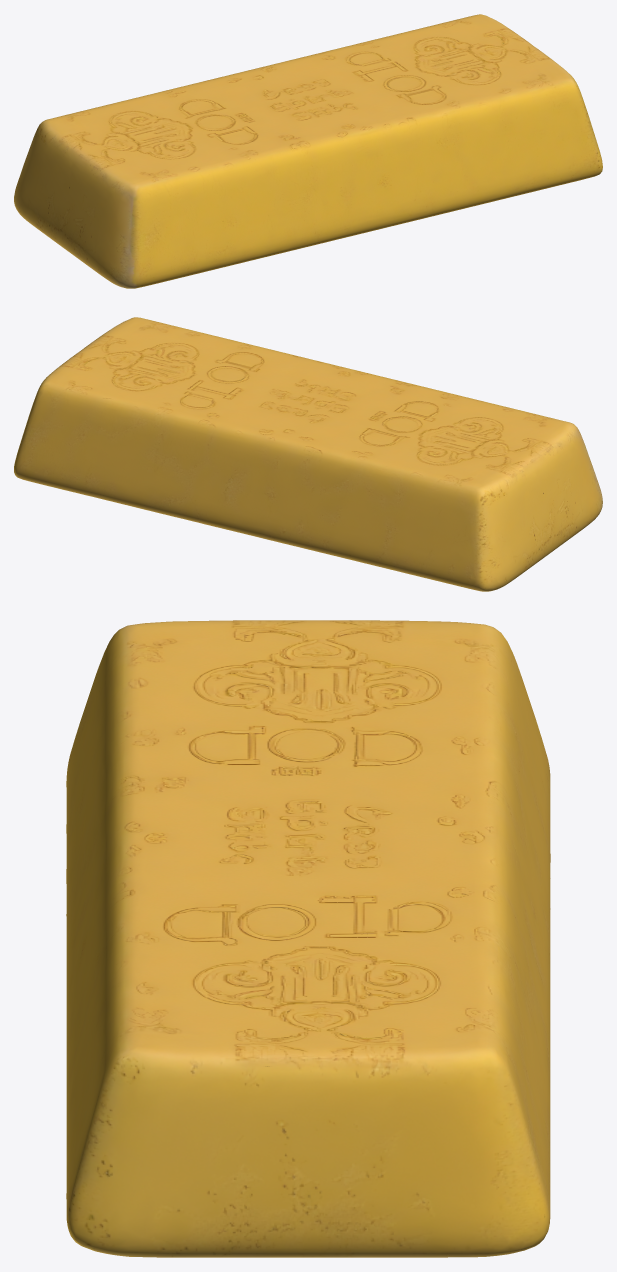
3 renders of one model, top to bottom at view 1: azimuth 30°, elevation 25°; view 2: azimuth 150°, elevation 25°; view 3: azimuth 270°, elevation 25°, orthographic. The views are drawn at different scales.
Parts seen in each view (by area): view 1: Mesh1.0; view 2: Mesh1.0; view 3: Mesh1.0.
Part boxes in pixels (left/top/right/bottom): Mesh1.0: left=14, top=14, right=602, bottom=288; Mesh1.0: left=14, top=317, right=602, bottom=591; Mesh1.0: left=66, top=620, right=550, bottom=1257.
Bounding box in the file's own units: 2.01 × 0.3767 × 0.8583.
Materials: 1 (1 with a texture image).
